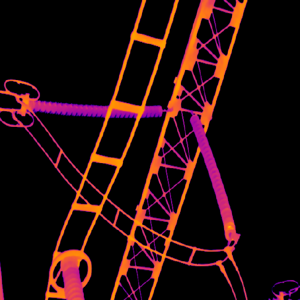insulator: (188, 111, 236, 241), (22, 96, 164, 119)
